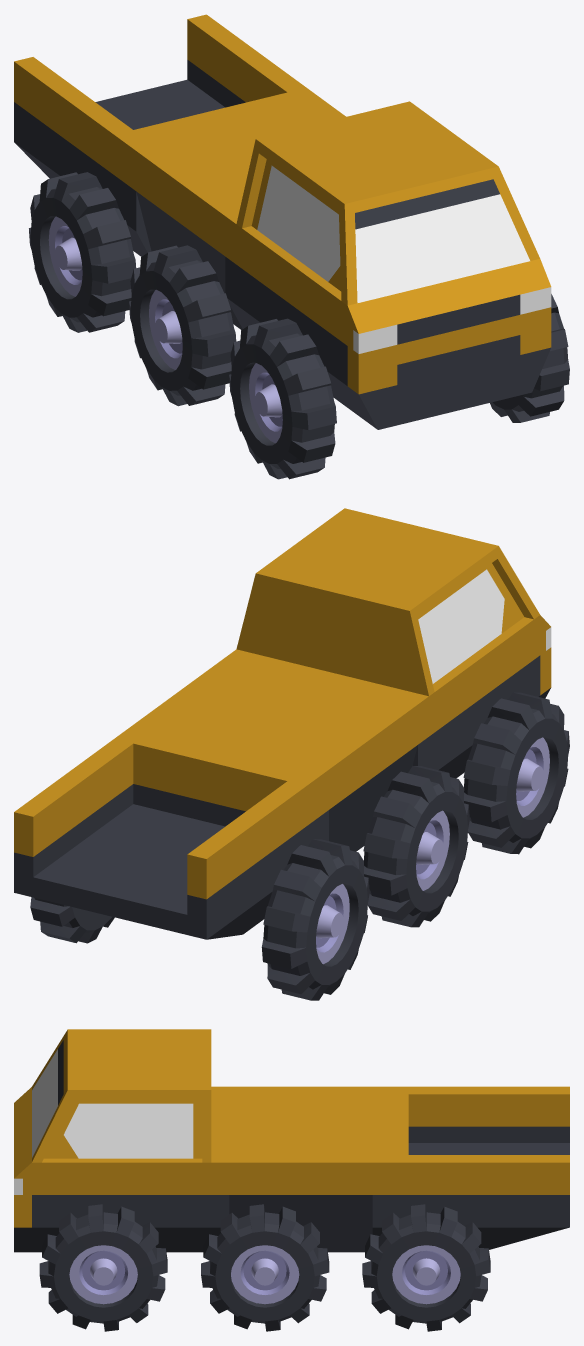
Rendered from Truck_6Wheels_01.fbx.
3 renders of one model, top to bottom at view 1: azimuth 30°, elevation 25°; view 2: azimuth 150°, elevation 25°; view 3: azimuth 270°, elevation 25°, orthographic. The views are drawn at different scales.
Parts seen in each view (by area): view 1: wheel_ridges (×4), body_topSteep, body_frontTruckFlat, body_backBed, body_edge, body_standard; view 2: body_backBed, wheel_ridges (×4), body_topSteep, body_edge, body_standard, body_frontTruckFlat; view 3: wheel_ridges (×3), body_edge, body_backBed, body_topSteep, body_standard, body_frontTruckFlat.
Boxes of the visible parts, x1=… form: wheel_ridges (×4): x1=29, y1=172, x2=569, y2=479; body_topSteep: x1=236, y1=101, x2=539, y2=305; body_frontTruckFlat: x1=347, y1=259, x2=551, y2=429; body_backBed: x1=14, y1=14, x2=317, y2=256; body_edge: x1=125, y1=96, x2=345, y2=329; body_standard: x1=236, y1=224, x2=366, y2=421; body_backBed: x1=14, y1=730, x2=317, y2=939; wheel_ridges (×4): x1=30, y1=692, x2=569, y2=1000; body_topSteep: x1=236, y1=508, x2=539, y2=696; body_edge: x1=125, y1=649, x2=428, y2=851; body_standard: x1=429, y1=615, x2=540, y2=778; body_frontTruckFlat: x1=539, y1=615, x2=551, y2=698; wheel_ridges (×3): x1=39, y1=1204, x2=490, y2=1331; body_edge: x1=211, y1=1086, x2=390, y2=1252; body_backBed: x1=390, y1=1086, x2=569, y2=1249; body_topSteep: x1=32, y1=1029, x2=211, y2=1162; body_standard: x1=32, y1=1158, x2=211, y2=1252; body_frontTruckFlat: x1=14, y1=1087, x2=31, y2=1252.
Bounding box in the file's own units: 14.33 × 13.58 × 31.
